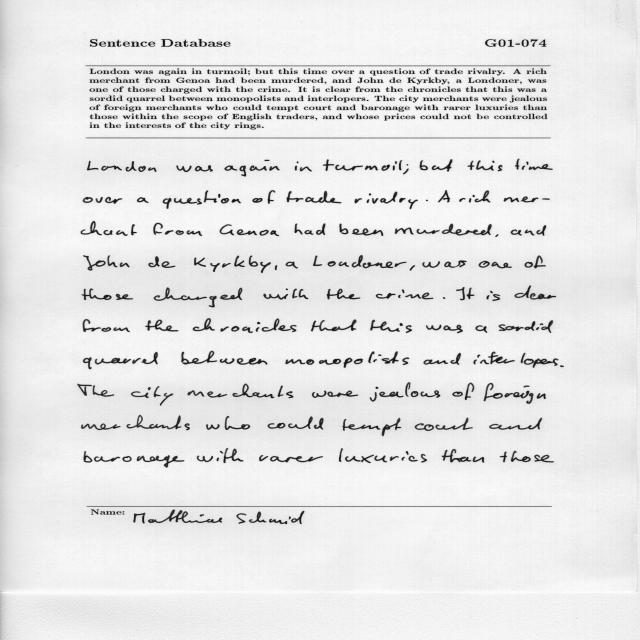word: (286, 351, 409, 368), (154, 288, 243, 308), (84, 451, 184, 468), (82, 415, 190, 430), (193, 318, 297, 333), (188, 384, 294, 398), (163, 190, 241, 209), (474, 352, 559, 368), (370, 383, 440, 402), (339, 448, 427, 463), (194, 256, 271, 273), (484, 383, 546, 404), (83, 352, 158, 369), (313, 255, 407, 268), (182, 351, 268, 365), (395, 224, 492, 236), (354, 192, 418, 209), (343, 418, 402, 436), (323, 159, 402, 171), (225, 160, 280, 177), (81, 221, 137, 236), (131, 386, 173, 406), (88, 161, 157, 172), (415, 418, 473, 431), (84, 255, 130, 271), (268, 417, 324, 430), (220, 224, 279, 236), (499, 320, 553, 333), (197, 448, 243, 463), (287, 191, 341, 203), (154, 223, 203, 236), (490, 418, 543, 430), (206, 416, 250, 430), (83, 319, 130, 332), (500, 451, 554, 462), (515, 286, 557, 300), (442, 449, 484, 463), (311, 319, 356, 332), (340, 223, 384, 236), (376, 290, 433, 300), (82, 289, 133, 300), (370, 320, 412, 333), (264, 289, 309, 300), (78, 384, 114, 397), (423, 353, 461, 365), (259, 455, 323, 462), (420, 159, 453, 172), (515, 159, 553, 170), (146, 320, 179, 332), (468, 161, 503, 172), (511, 225, 546, 236), (327, 289, 361, 300), (453, 383, 475, 400), (460, 191, 491, 203), (295, 223, 326, 235), (312, 390, 358, 398), (422, 260, 467, 268), (426, 325, 463, 334), (149, 256, 176, 268), (253, 190, 276, 204), (504, 197, 550, 203), (84, 197, 123, 204), (525, 256, 546, 269), (176, 165, 213, 172), (456, 287, 475, 300), (479, 261, 512, 268), (295, 162, 312, 172), (438, 191, 450, 203), (486, 291, 500, 301), (475, 325, 487, 333), (286, 262, 298, 269), (137, 197, 149, 203), (403, 164, 409, 174), (410, 265, 415, 271), (495, 234, 499, 237), (275, 265, 277, 270), (560, 366, 564, 368), (443, 297, 446, 299), (426, 200, 428, 201)
